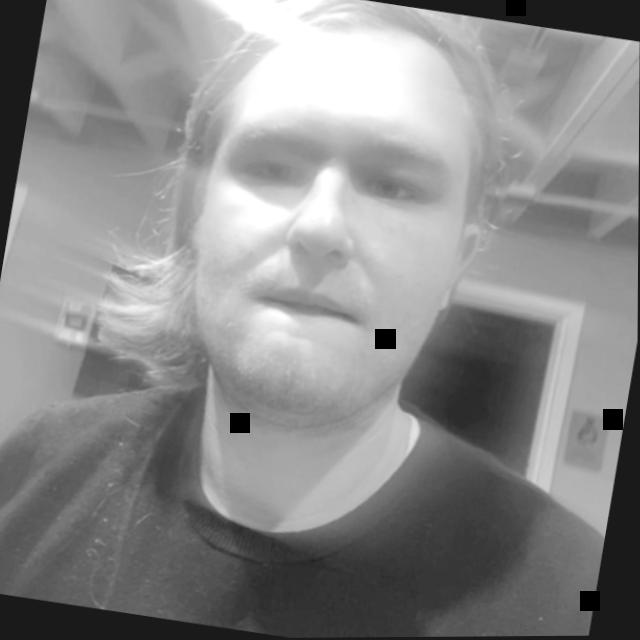NO-Mask: (74, 0, 531, 538)
